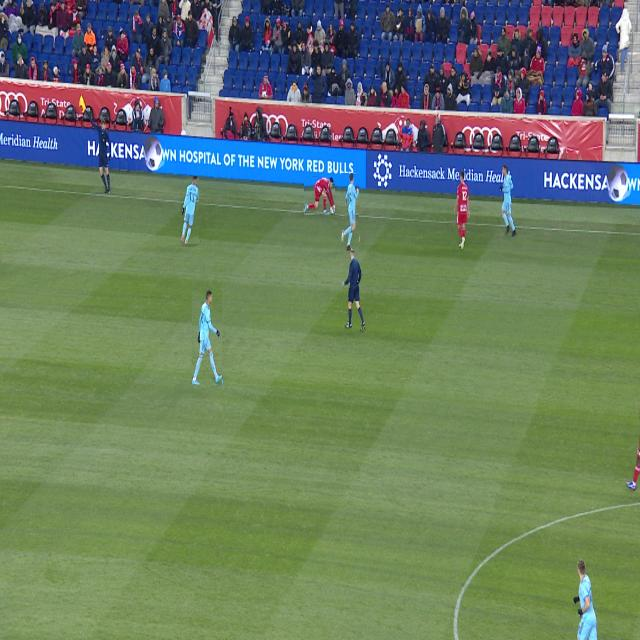football: (303, 205, 309, 214)
player: (193, 291, 222, 385), (573, 559, 597, 640), (342, 174, 359, 251), (454, 171, 470, 249), (181, 177, 199, 245), (304, 177, 335, 215), (626, 408, 640, 491), (500, 165, 516, 236)
referee: (342, 246, 365, 332)
